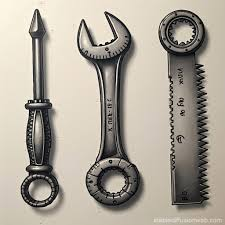Screwdriver: (21, 9, 58, 206)
Wrench: (78, 12, 139, 205)
